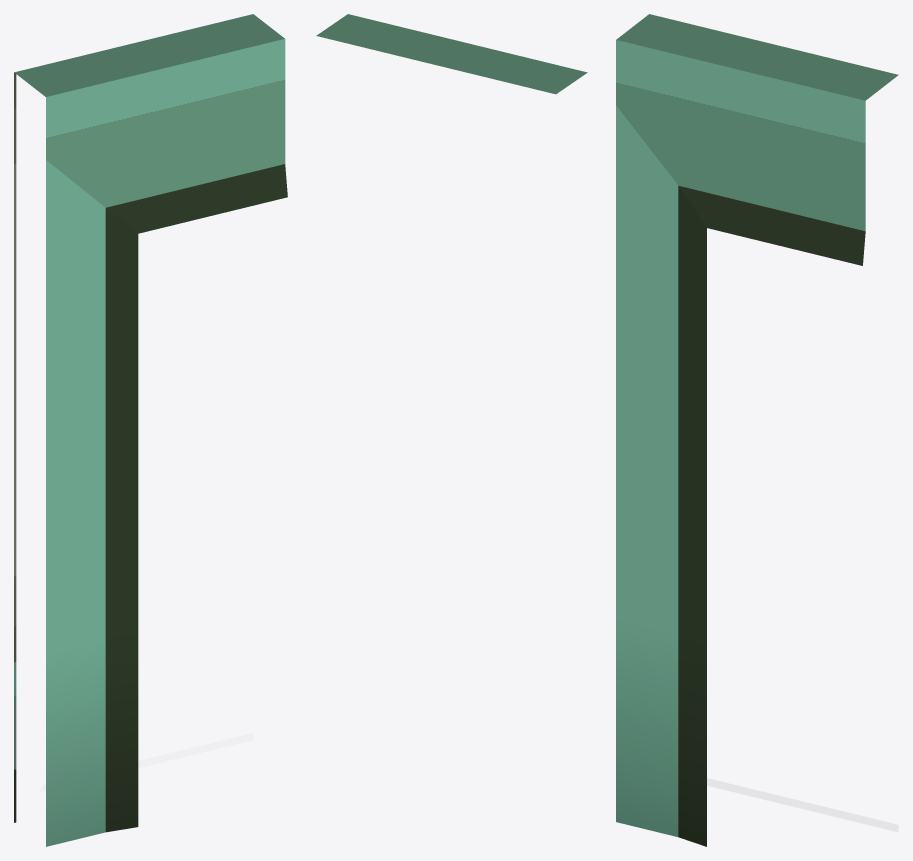
3 renders of one model, left to right at view 1: azimuth 30°, elevation 25°; view 2: azimuth 150°, elevation 25°; view 3: azimuth 330°, elevation 25°, orthographic. The views are drawn at different scales.
Size of the model in its own units: 1 by 3 by 0.25.
Materials: 2 (2 with a texture image).
